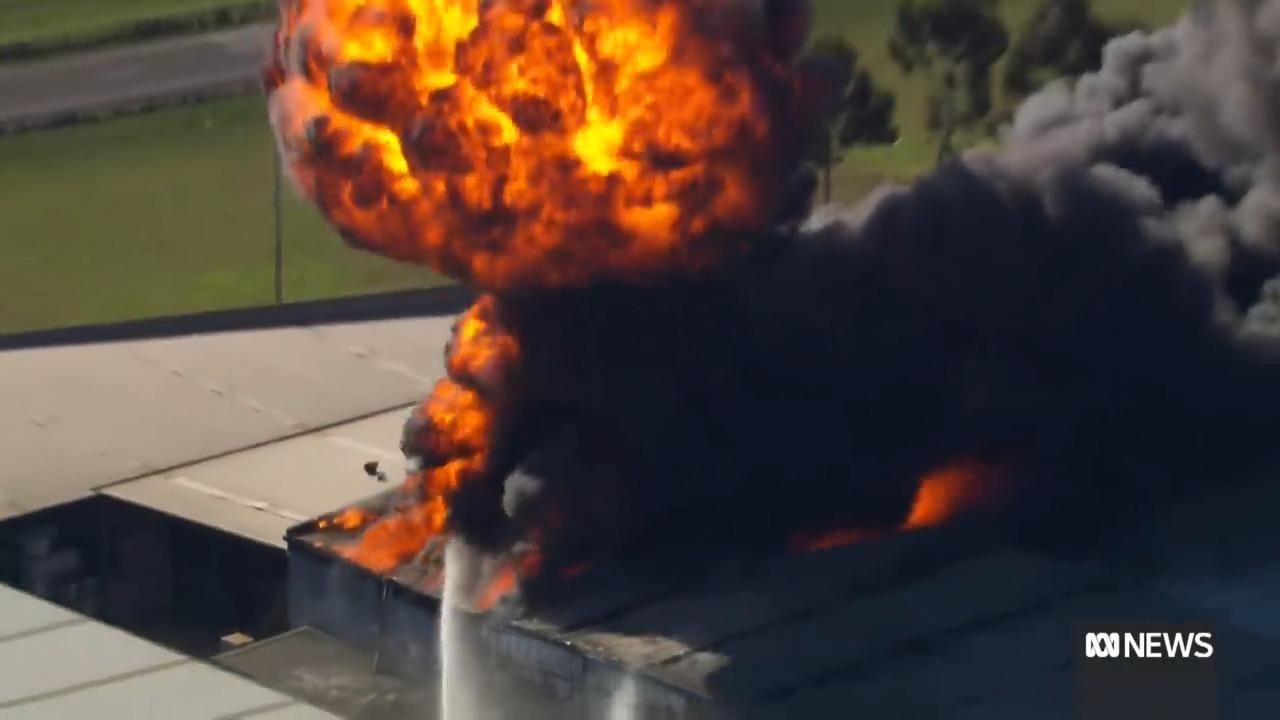fire: (273, 1, 761, 259), (431, 280, 573, 579), (897, 450, 965, 534)
